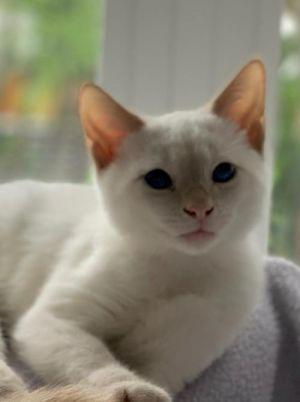siamese: (70, 49, 282, 265)
